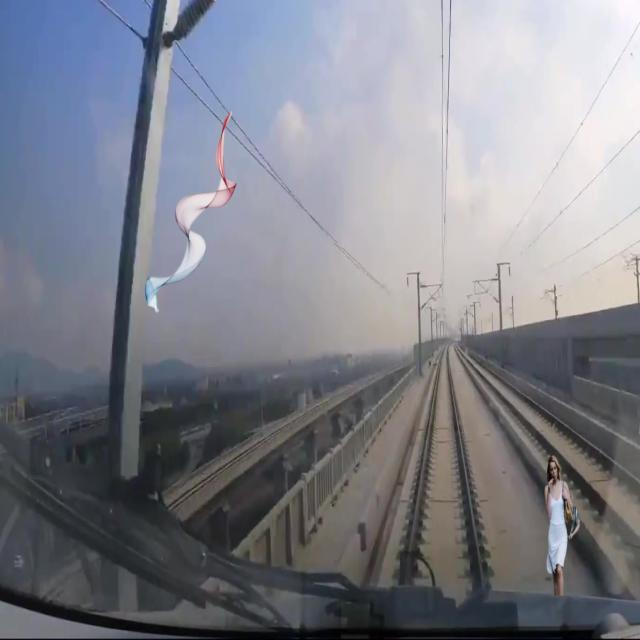floating object: (140, 103, 237, 305)
